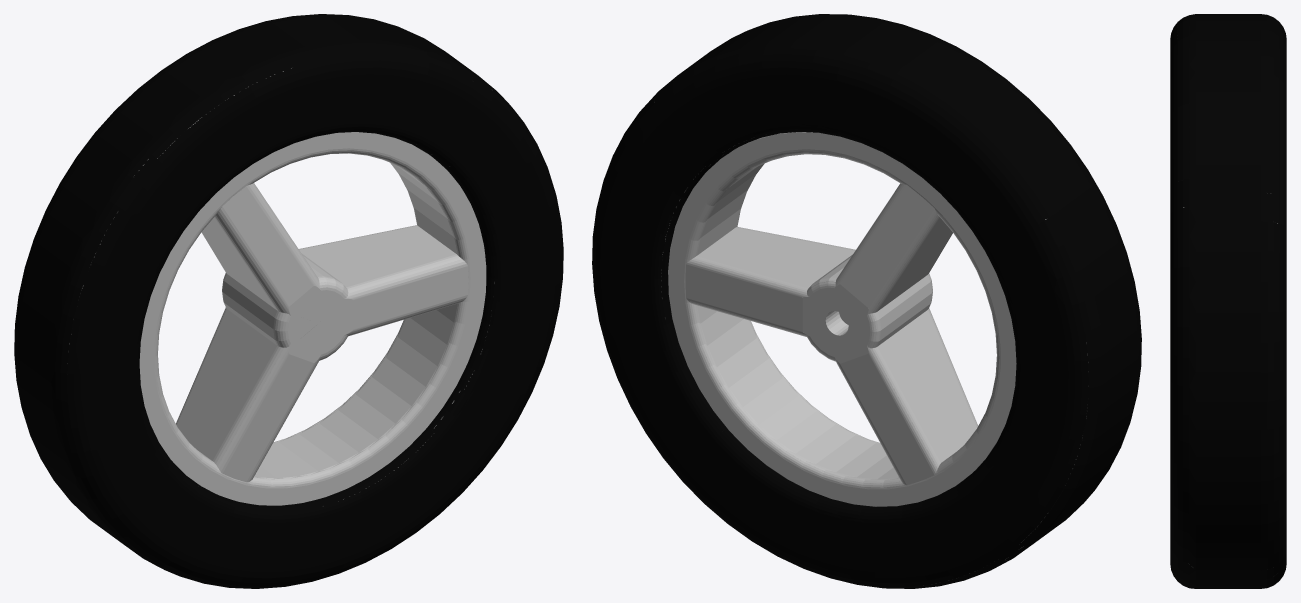
The model's file is right_wheel_link.dae.
3 renders of one model, left to right at view 1: azimuth 30°, elevation 25°; view 2: azimuth 150°, elevation 25°; view 3: azimuth 270°, elevation 25°, orthographic. The views are drawn at different scales.
Visible parts, largest first — view 1: Right_Wheel_Black, Right_Wheel_Silver; view 2: Right_Wheel_Black, Right_Wheel_Silver; view 3: Right_Wheel_Black.
Part boxes in pixels (x1=…): Right_Wheel_Black: x1=14, y1=14, x2=563, y2=588; Right_Wheel_Silver: x1=139, y1=132, x2=486, y2=505; Right_Wheel_Black: x1=592, y1=14, x2=1141, y2=588; Right_Wheel_Silver: x1=668, y1=132, x2=1016, y2=506; Right_Wheel_Black: x1=1170, y1=14, x2=1286, y2=588.
Size of the model in its own units: 0.2219 by 0.045 by 0.2218.
2 materials, 2 textured.
